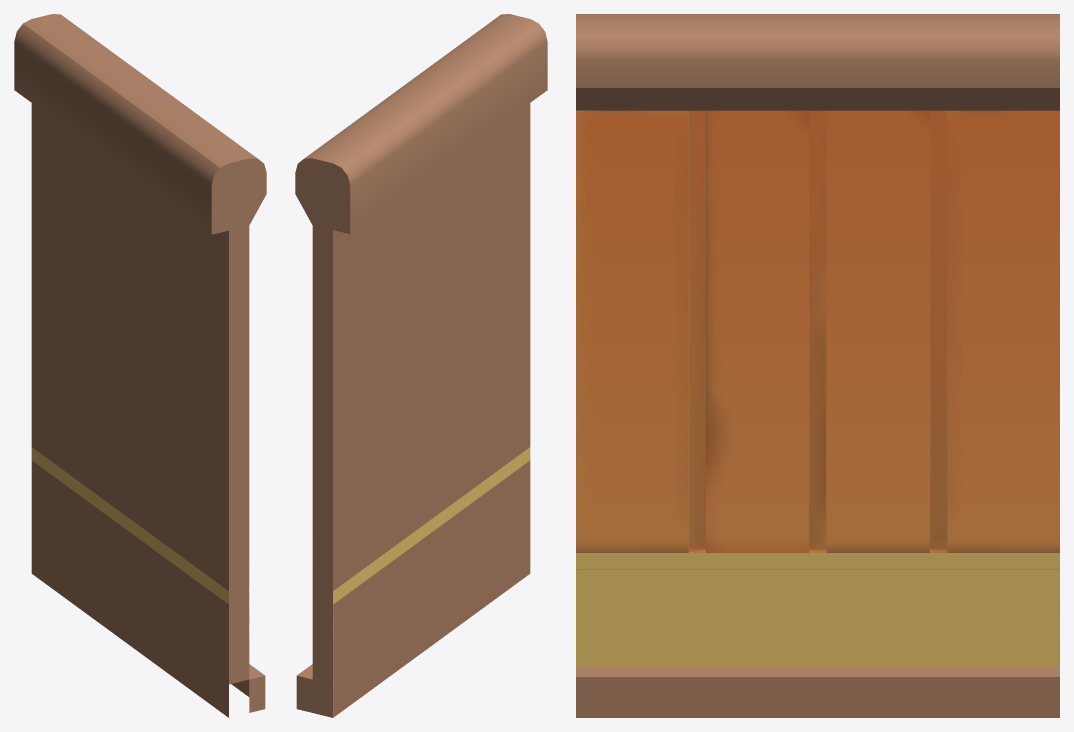
File: Wall_Straight.fbx
The picture shows the model from 3 angles, left to right: view 1: azimuth 30°, elevation 25°; view 2: azimuth 150°, elevation 25°; view 3: azimuth 270°, elevation 25°; orthographic projection. The views are drawn at different scales.
Visible parts, largest first — view 1: Wall_Straight_2; view 2: Wall_Straight_2; view 3: Wall_Straight_2.
Boxes of the visible parts, <box> form: Wall_Straight_2: <box>14,14,266,717</box>; Wall_Straight_2: <box>295,14,547,717</box>; Wall_Straight_2: <box>576,14,1059,717</box>.
Size of the model in its own units: 32 by 310 by 200.
